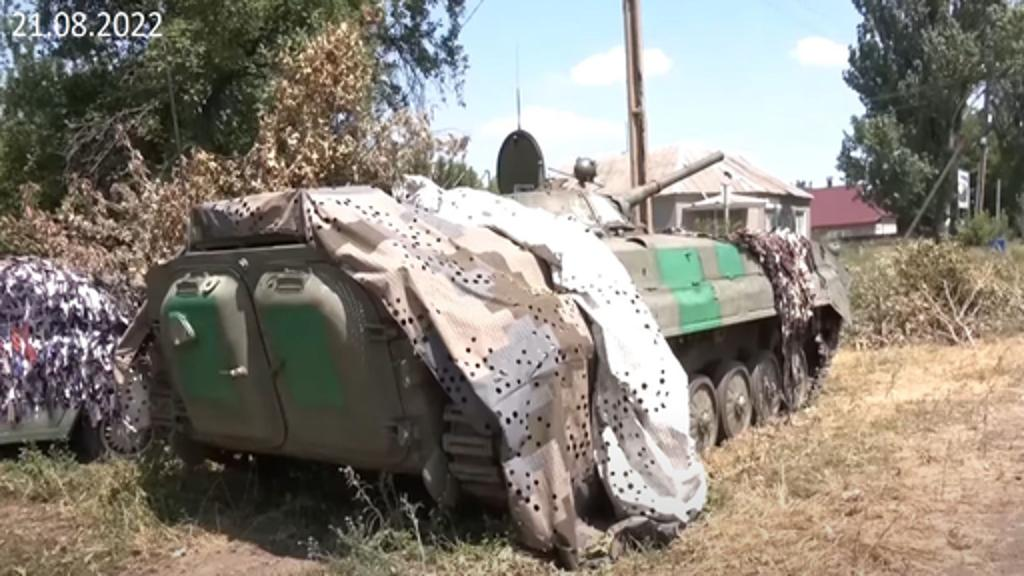APC-IFV: (138, 134, 852, 524)
